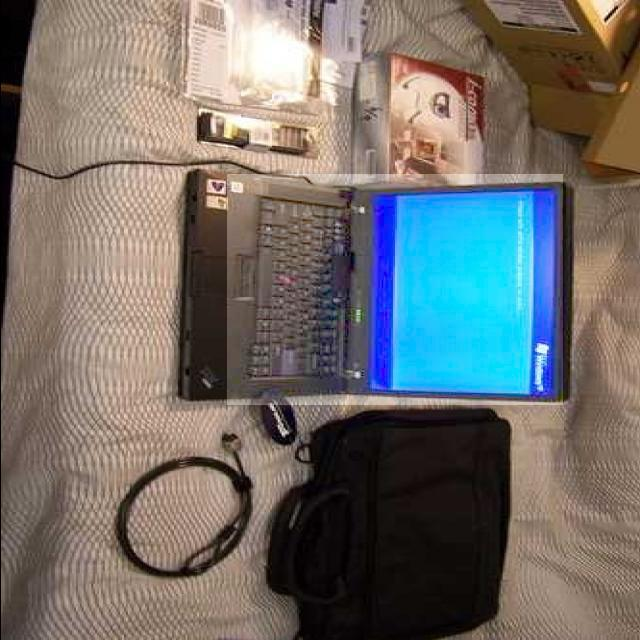-keyboard-: (227, 174, 563, 405)
